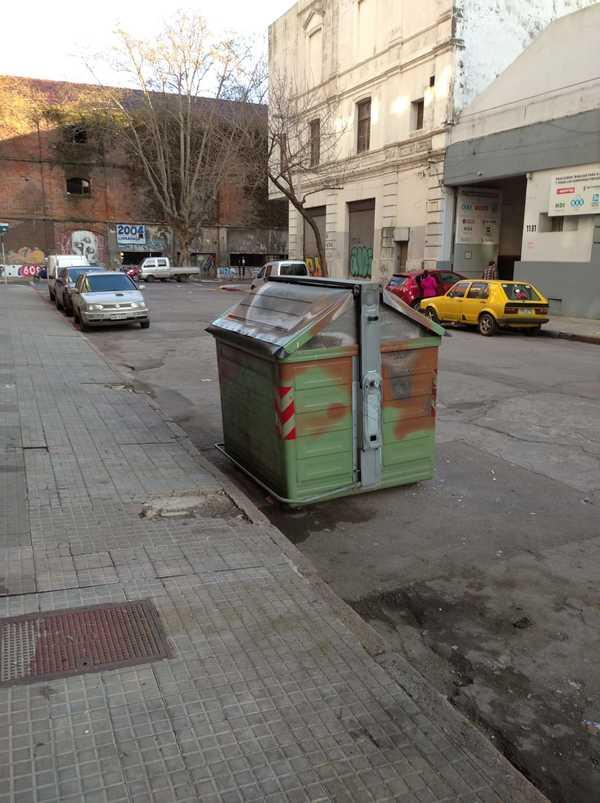Trash: (206, 276, 440, 506)
